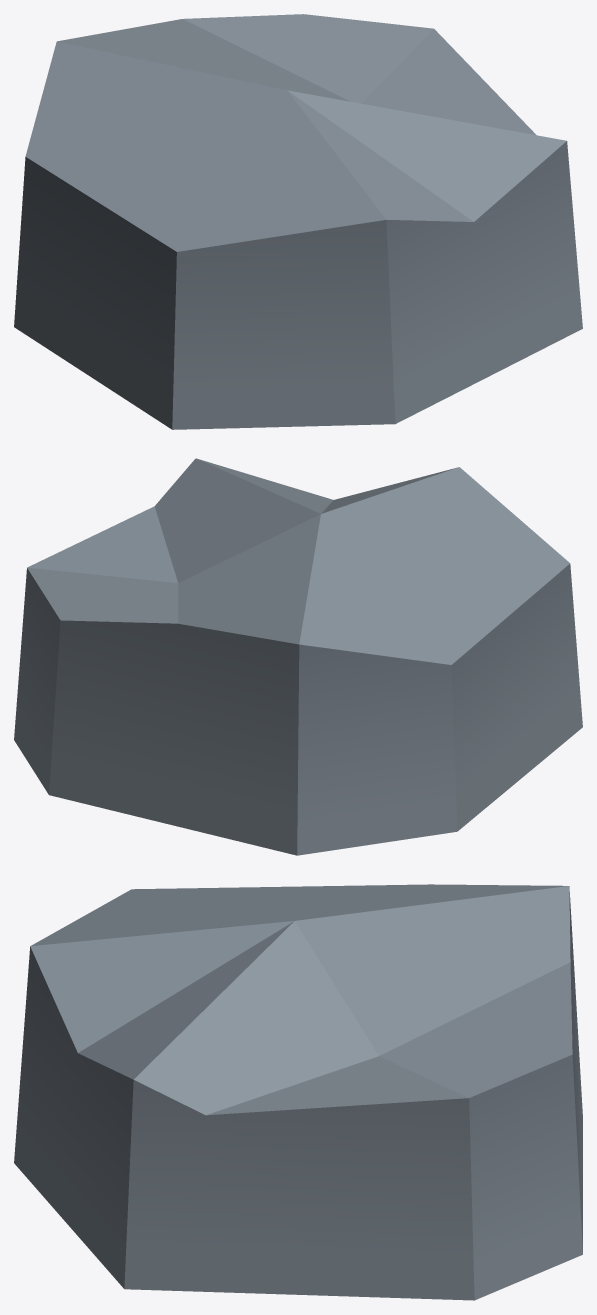
File: Ore_01_3.fbx
3 views of the same model, one above another, from view 1: azimuth 30°, elevation 25°; view 2: azimuth 150°, elevation 25°; view 3: azimuth 270°, elevation 25° (orthographic). The views are drawn at different scales.
Visible parts, largest first — view 1: Ore_01_3; view 2: Ore_01_3; view 3: Ore_01_3.
Part boxes in pixels (x1,y1,x2,y2): Ore_01_3: [14, 14, 582, 429]; Ore_01_3: [14, 458, 582, 855]; Ore_01_3: [14, 884, 582, 1300].
Size of the model in its own units: 1.44 by 0.7227 by 1.47.
